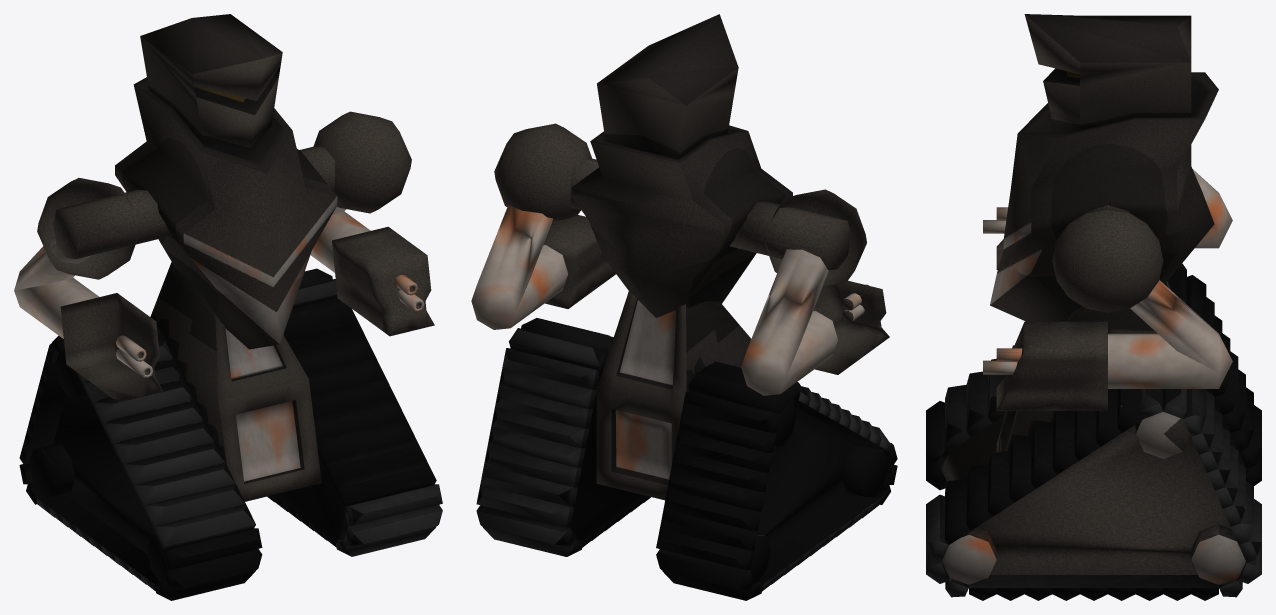
Rendered from Robo3.fbx.
The picture shows the model from 3 angles, left to right: view 1: azimuth 30°, elevation 25°; view 2: azimuth 150°, elevation 25°; view 3: azimuth 270°, elevation 25°; orthographic projection. The views are drawn at different scales.
Parts seen in each view (by area): view 1: Treads, Arms, Torso, Base, Head; view 2: Treads, Arms, Torso, Base, Head; view 3: Treads, Arms, Torso, Head, Base.
Boxes of the visible parts, box(x1,y1,x2,y2) form: Treads: box(19, 268, 442, 600); Arms: box(14, 111, 434, 402); Torso: box(115, 77, 337, 349); Base: box(150, 262, 321, 501); Head: box(140, 14, 282, 149); Treads: box(476, 318, 897, 600); Arms: box(471, 123, 889, 395); Torso: box(571, 125, 792, 317); Base: box(596, 290, 751, 500); Head: box(597, 14, 738, 158); Treads: box(926, 263, 1261, 600); Arms: box(983, 169, 1232, 410); Torso: box(990, 72, 1218, 321); Head: box(1024, 14, 1191, 130); Base: box(996, 281, 1170, 452).
Size of the model in its own units: 8 by 10.38 by 6.05.
Materials: 5 (5 with a texture image).
